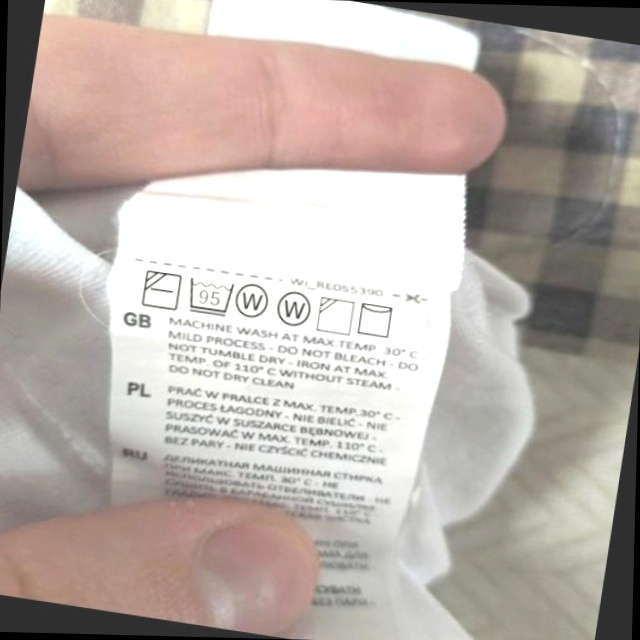95C: (184, 274, 237, 319)
dry_flat_in_shade: (139, 266, 184, 313)
line_dry: (354, 298, 399, 341)
shade_dry: (314, 294, 358, 338)
wet_clean: (273, 287, 315, 332), (233, 277, 274, 322)
